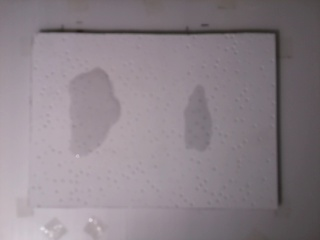Water_detected: (76, 79, 116, 148), (186, 108, 220, 142)
